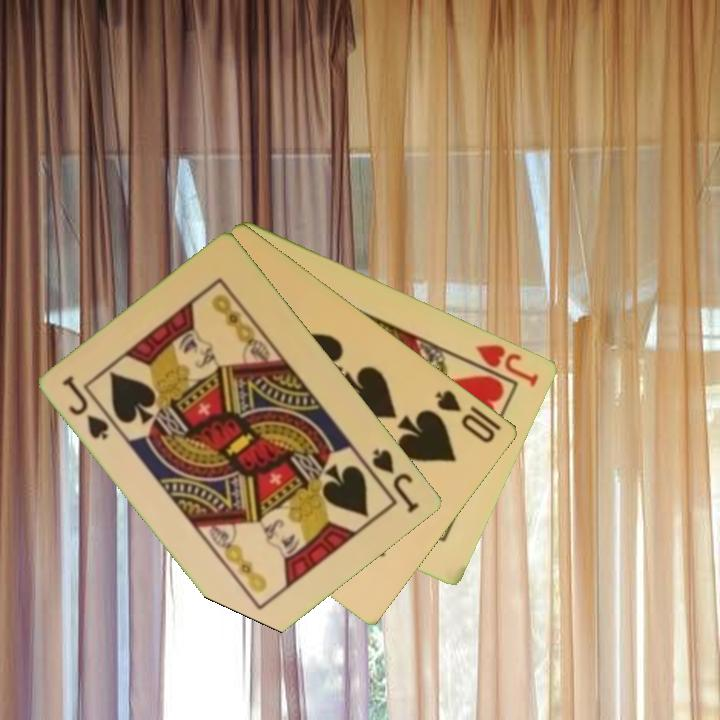10s: (431, 386, 499, 446)
Jh: (473, 340, 542, 390)
Js: (369, 444, 423, 517), (59, 372, 113, 442)
